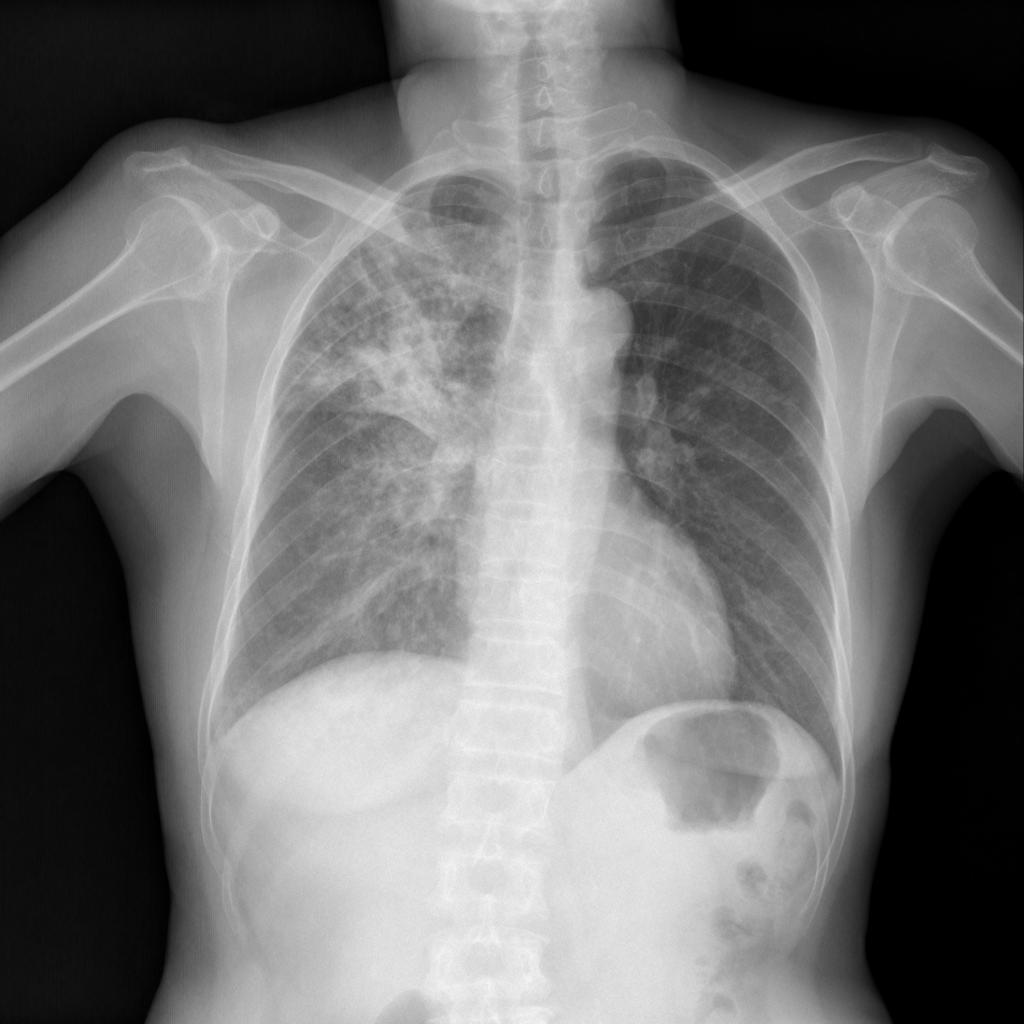Nodule: (360, 595, 454, 651), (729, 301, 773, 340)
